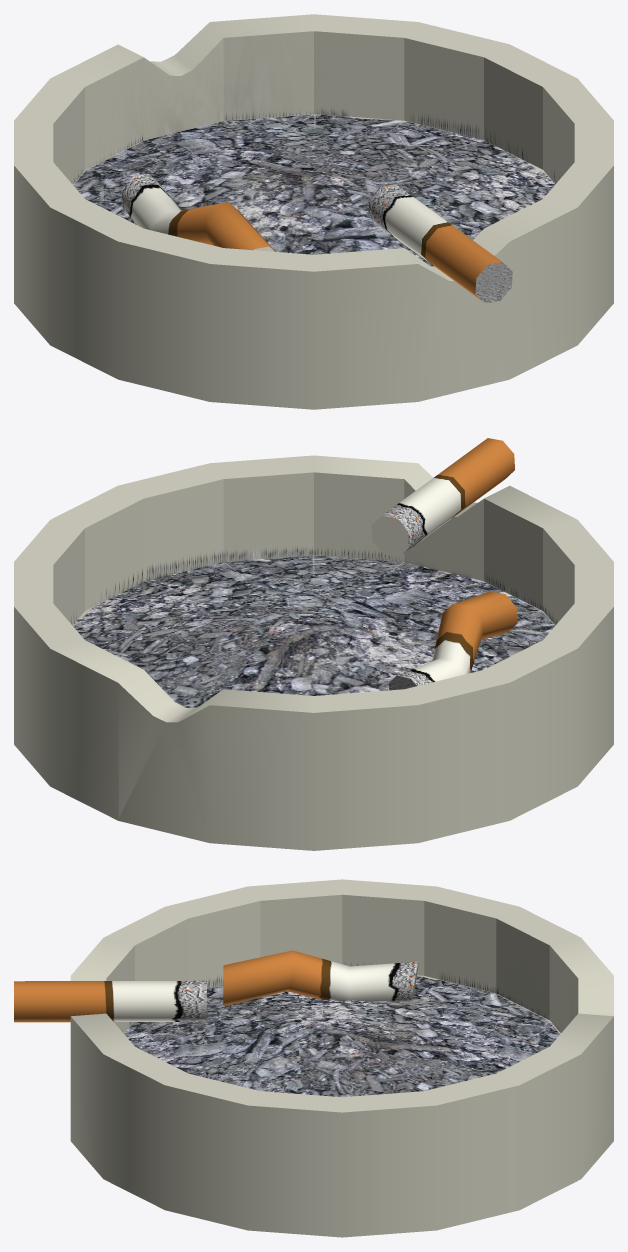
File: Ashtray.FBX
The picture shows the model from 3 angles, top to bottom: view 1: azimuth 30°, elevation 25°; view 2: azimuth 150°, elevation 25°; view 3: azimuth 270°, elevation 25°; orthographic projection. The views are drawn at different scales.
Parts seen in each view (by area): view 1: Ashtray, Cigarette, Dogend; view 2: Ashtray, Cigarette, Dogend; view 3: Ashtray, Cigarette, Dogend.
Part boxes in pixels (x1,y1,x2,y2): Ashtray: [14, 14, 613, 409]; Cigarette: [368, 184, 512, 303]; Dogend: [121, 174, 275, 251]; Ashtray: [14, 455, 613, 850]; Cigarette: [371, 438, 514, 557]; Dogend: [388, 591, 517, 690]; Ashtray: [70, 879, 613, 1237]; Cigarette: [14, 980, 207, 1022]; Dogend: [223, 950, 418, 1006].
Bounding box in the file's own units: 20 × 5.47 × 21.75.
